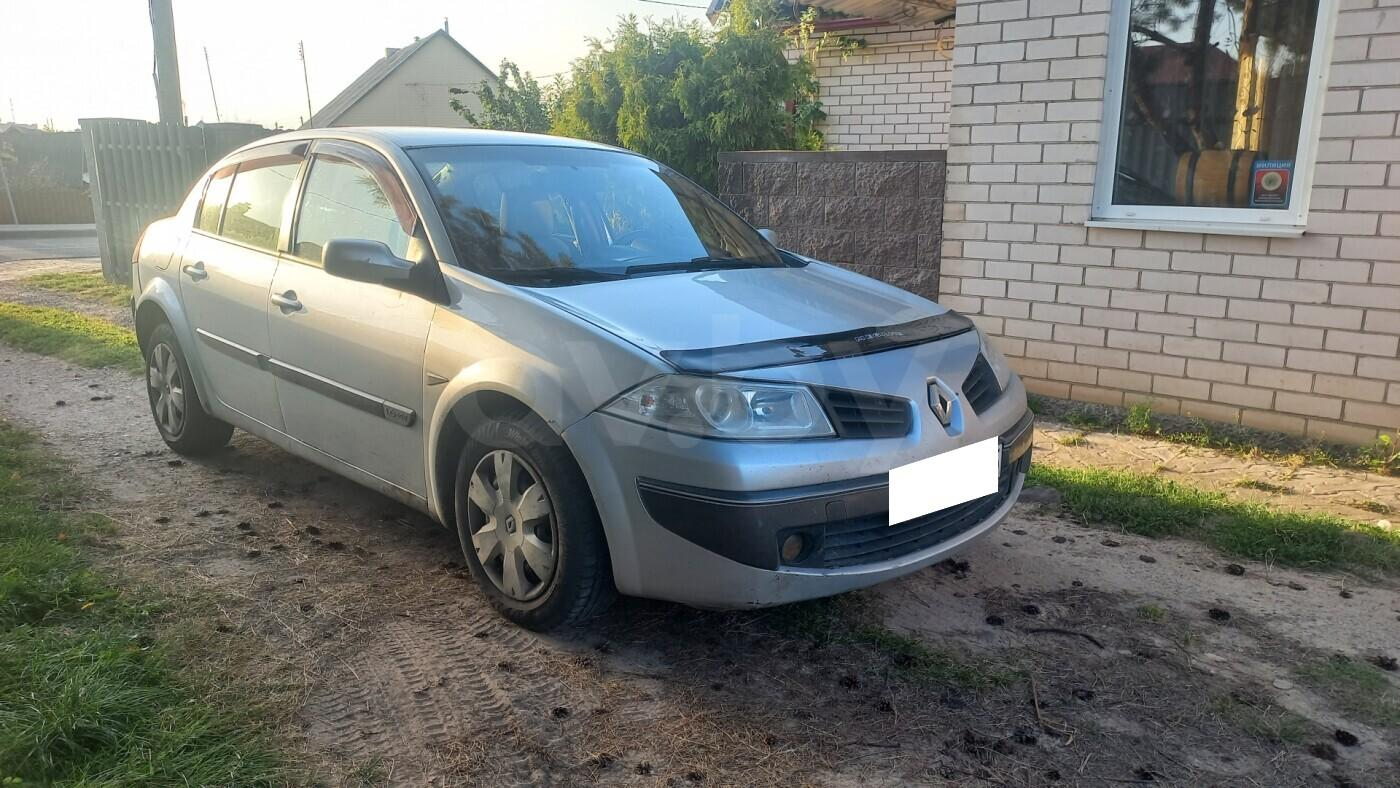Megane_2005-2009: (122, 127, 1043, 634)
